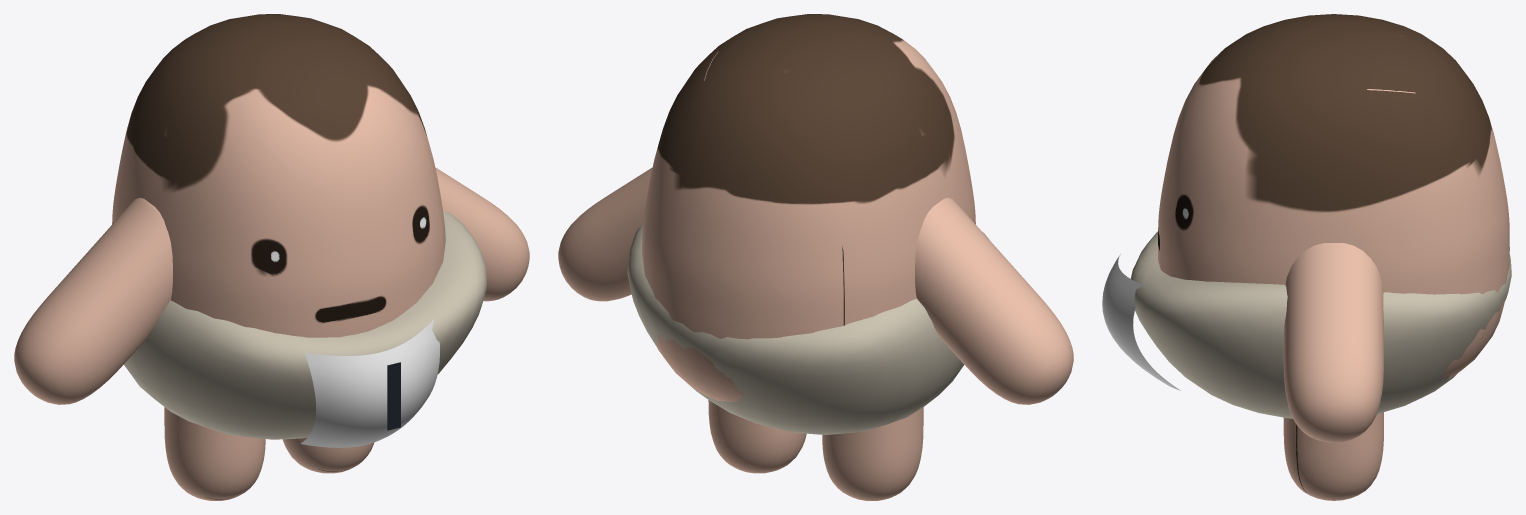
File: Graciliana.glb
3 renders of one model, left to right at view 1: azimuth 30°, elevation 25°; view 2: azimuth 150°, elevation 25°; view 3: azimuth 270°, elevation 25°, orthographic.
Parts seen in each view (by area): view 1: Cube.001, SurfPatch; view 2: Cube.001; view 3: Cube.001, SurfPatch.
Part boxes in pixels (left/top/right/bottom): Cube.001: left=14, top=14, right=529, bottom=500; SurfPatch: left=300, top=319, right=439, bottom=447; Cube.001: left=558, top=14, right=1073, bottom=500; Cube.001: left=1130, top=14, right=1511, bottom=500; SurfPatch: left=1102, top=254, right=1180, bottom=390.
Bounding box in the file's own units: 2.94 × 2.5 × 2.11.
3 materials, 1 textured.
